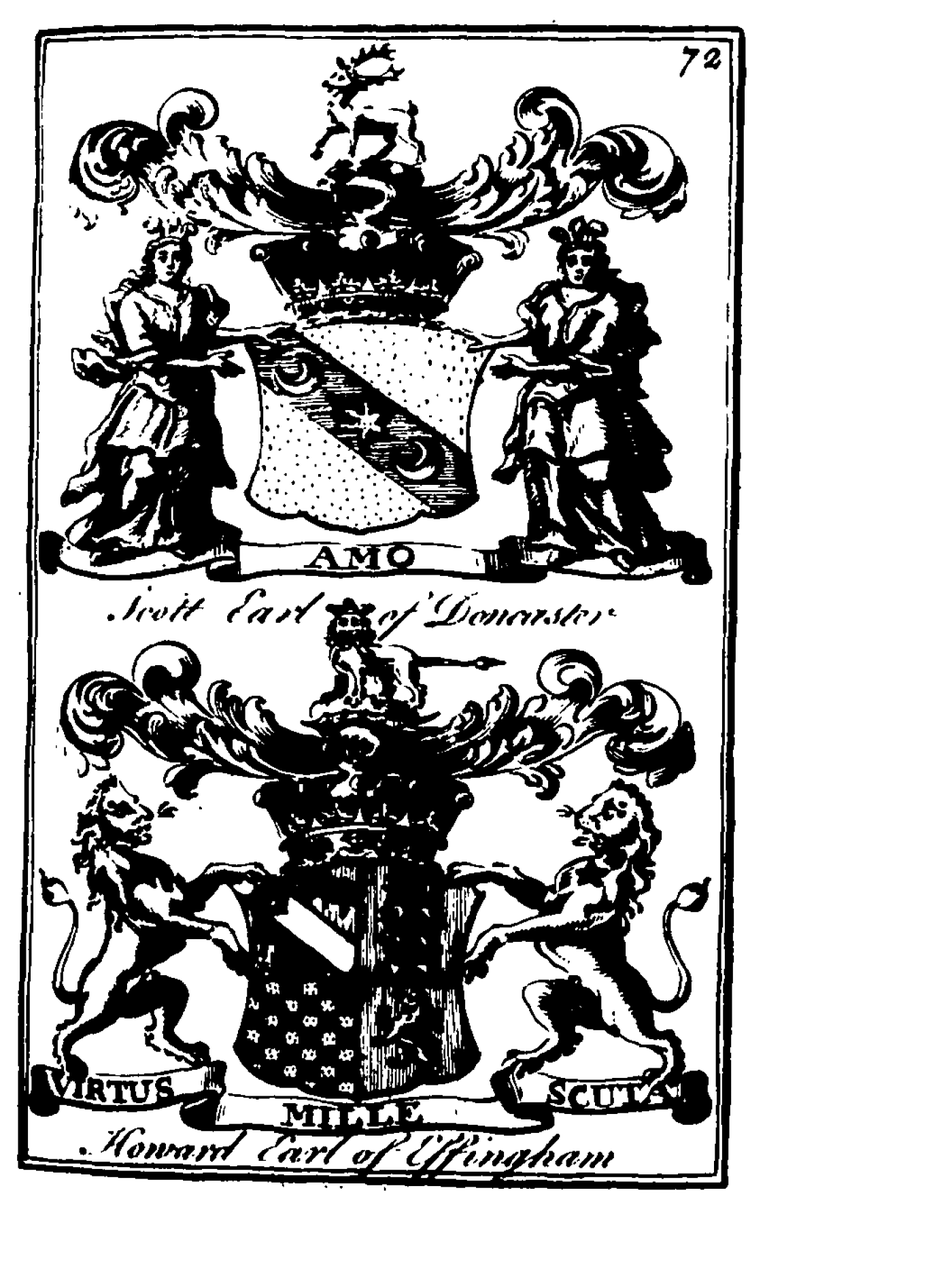coat_of_arms: (59, 45, 709, 634), (37, 628, 713, 1172)
